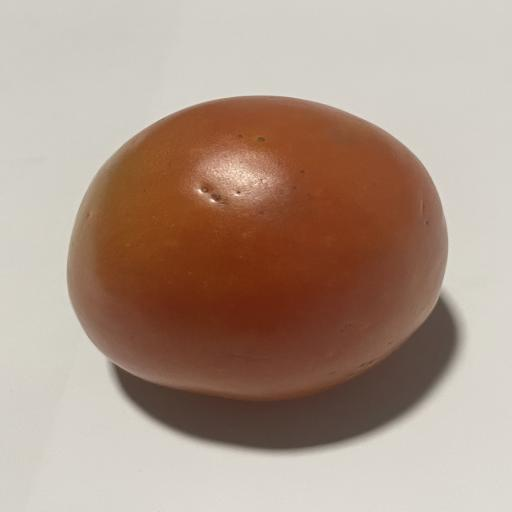unripe: (68, 96, 447, 399)
